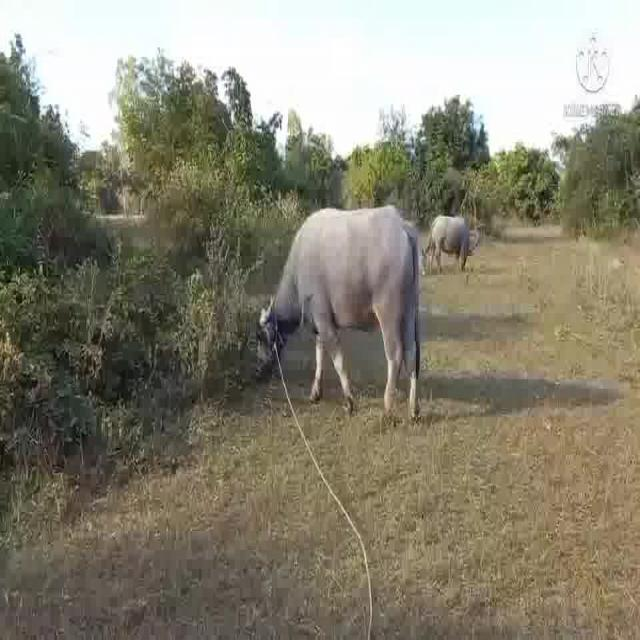buffalo: (288, 204, 432, 429), (423, 209, 477, 278)
